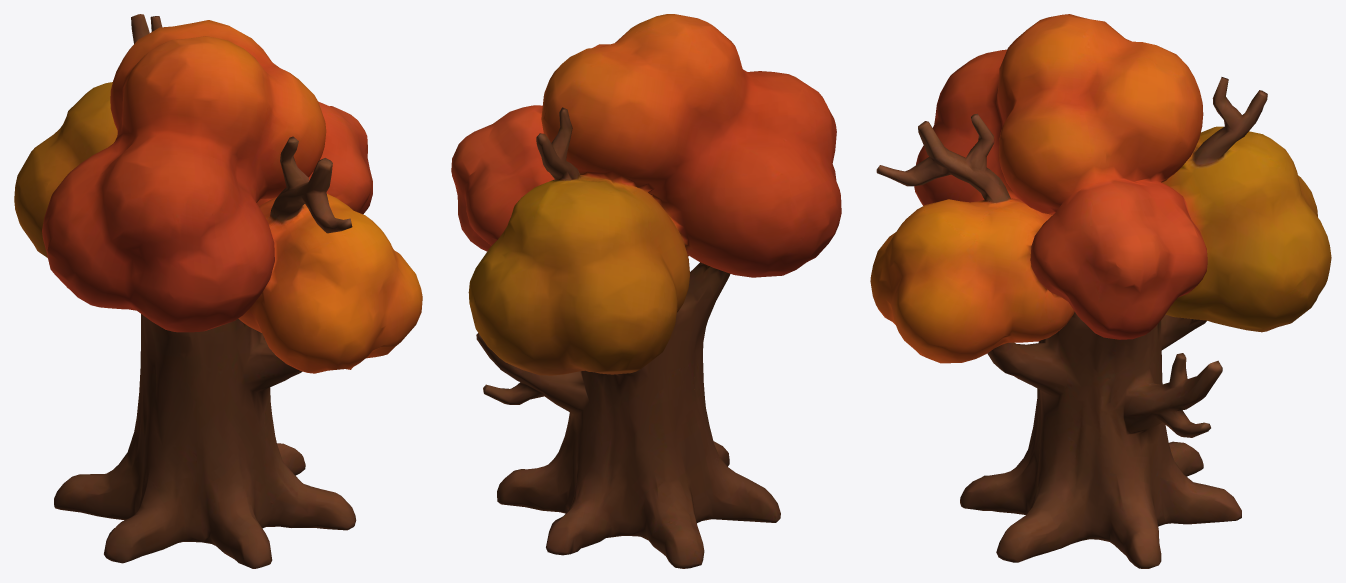
File: pro_oak2-D1xVMk-T.glb
3 views of the same model, side by side, from view 1: azimuth 30°, elevation 25°; view 2: azimuth 150°, elevation 25°; view 3: azimuth 270°, elevation 25° (orthographic).
Visible parts, largest first — view 1: tripo_node_6cef9559-399e-4448-9d96-5c28a67f839f; view 2: tripo_node_6cef9559-399e-4448-9d96-5c28a67f839f; view 3: tripo_node_6cef9559-399e-4448-9d96-5c28a67f839f.
Part boxes in pixels (<box>): tripo_node_6cef9559-399e-4448-9d96-5c28a67f839f: <box>14,14,422,568</box>; tripo_node_6cef9559-399e-4448-9d96-5c28a67f839f: <box>451,14,841,568</box>; tripo_node_6cef9559-399e-4448-9d96-5c28a67f839f: <box>870,14,1331,568</box>.
Bounding box in the file's own units: 0.7426 × 1 × 0.8702.
Materials: 1 (1 with a texture image).
